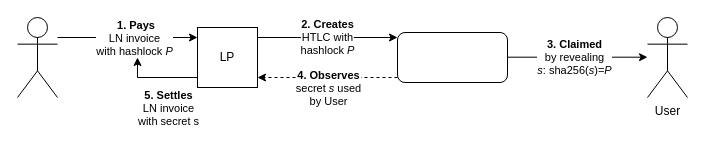
The diagram is 705 pixels wide and 145 high, and some of its shapes have lost their labels. Each missing label, with the centre of its shape:
"HTLC Hashlock P Timeout T" goes at point (452, 57).
"Payer" goes at point (37, 57).
